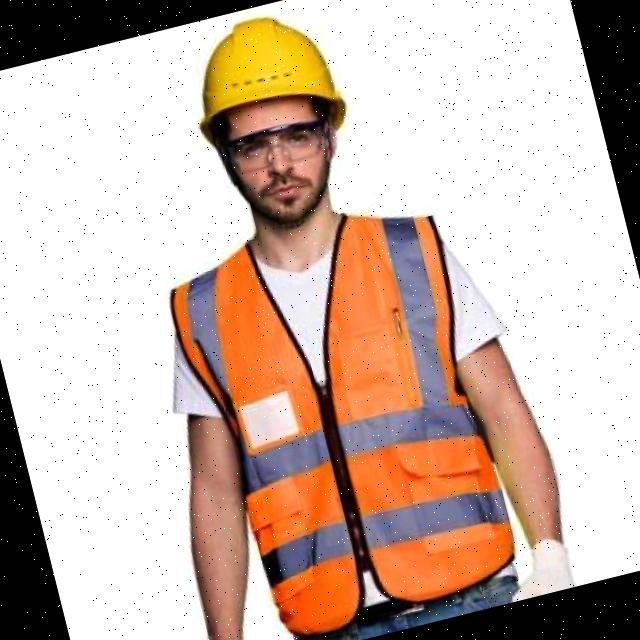vest: (168, 206, 528, 632)
